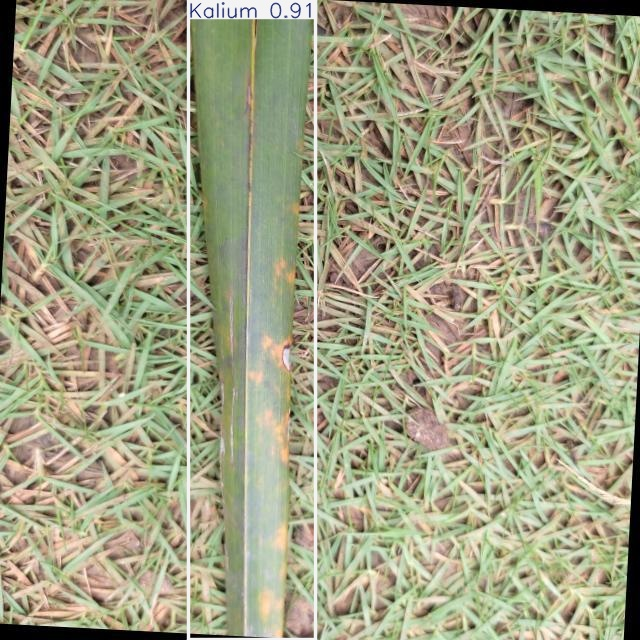Kalium: (189, 0, 315, 640)
